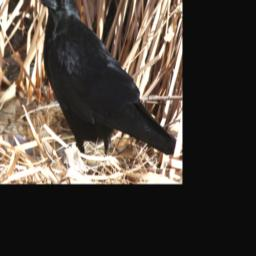Crow: (38, 0, 177, 157)
